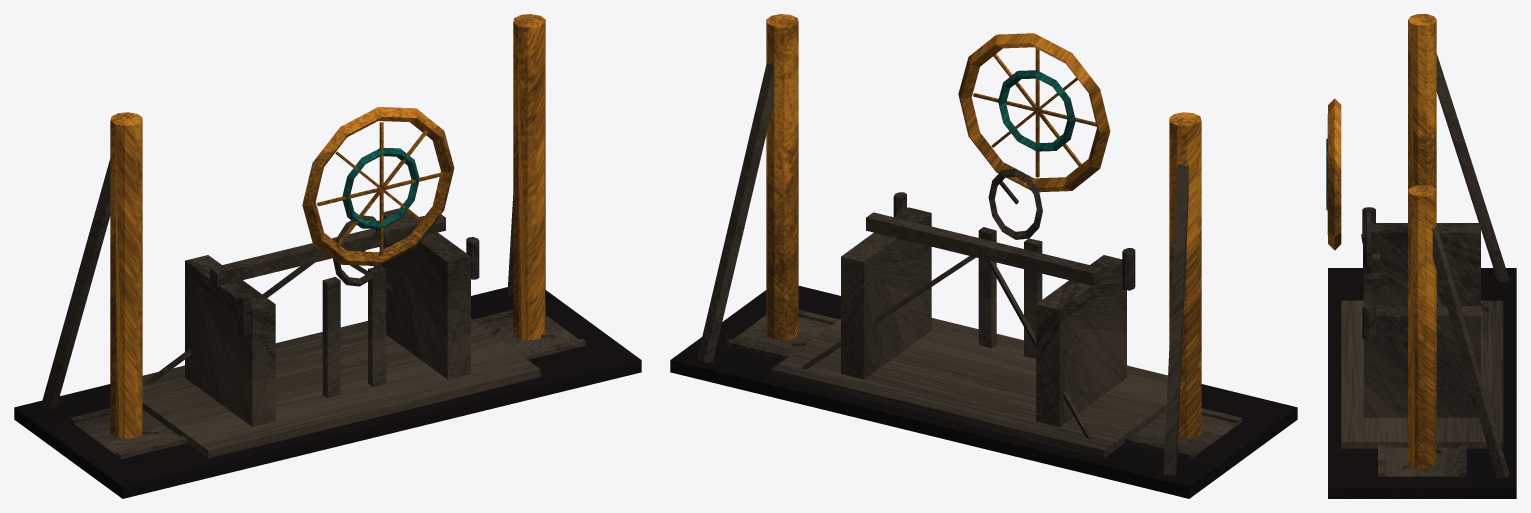
File: north-outflow-gate.glb
The picture shows the model from 3 angles, left to right: view 1: azimuth 30°, elevation 25°; view 2: azimuth 150°, elevation 25°; view 3: azimuth 270°, elevation 25°; orthographic projection. The views are drawn at different scales.
Visible parts, largest first — view 1: north-outflow-gate; view 2: north-outflow-gate; view 3: north-outflow-gate.
Boxes of the visible parts, x1,y1,x2,y2 form: north-outflow-gate: (14, 14, 641, 498); north-outflow-gate: (670, 14, 1297, 498); north-outflow-gate: (1326, 14, 1516, 498).
Bounding box in the file's own units: 11.6 × 6.96 × 4.24.
1 material, 1 textured.
